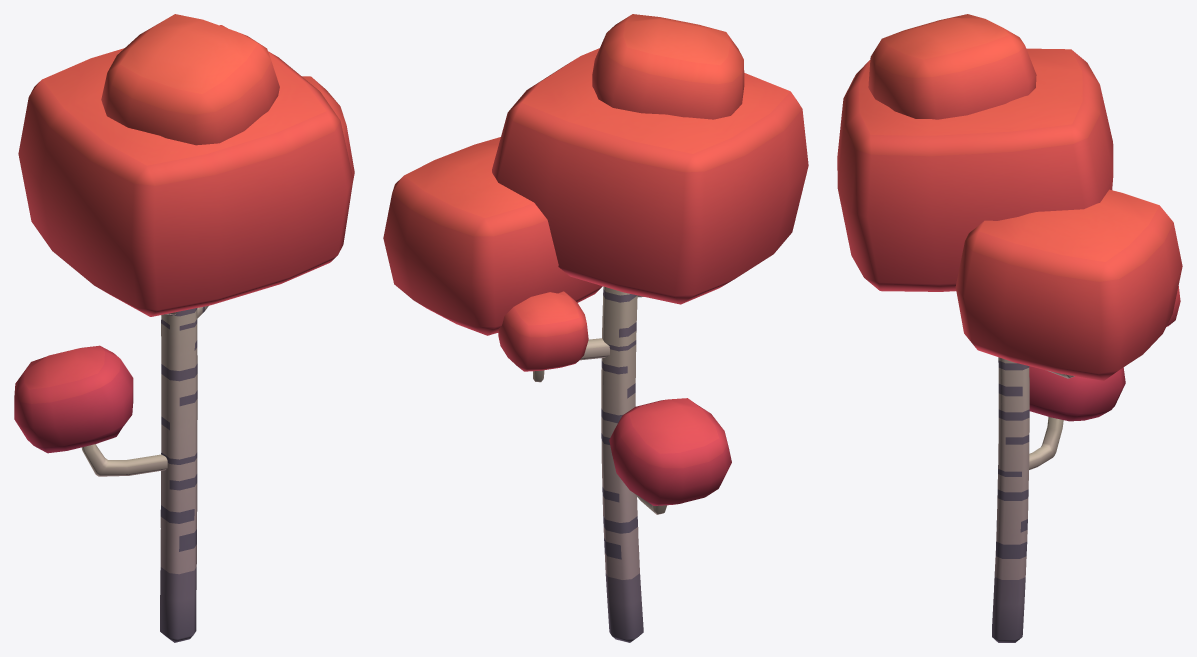
File: Birch_Tree_-_Proto_Series_-_Free.glb
3 renders of one model, left to right at view 1: azimuth 30°, elevation 25°; view 2: azimuth 150°, elevation 25°; view 3: azimuth 270°, elevation 25°, orthographic. The views are drawn at different scales.
Visible parts, largest first — view 1: birch_tree_SC_free_birch_red_mat_0; view 2: birch_tree_SC_free_birch_red_mat_0; view 3: birch_tree_SC_free_birch_red_mat_0.
Boxes of the visible parts, x1,y1,x2,y2 form: birch_tree_SC_free_birch_red_mat_0: (14,14,354,642); birch_tree_SC_free_birch_red_mat_0: (383,14,808,642); birch_tree_SC_free_birch_red_mat_0: (837,14,1182,642).
Bounding box in the file's own units: 526 × 937 × 483.
1 material, 1 textured.
